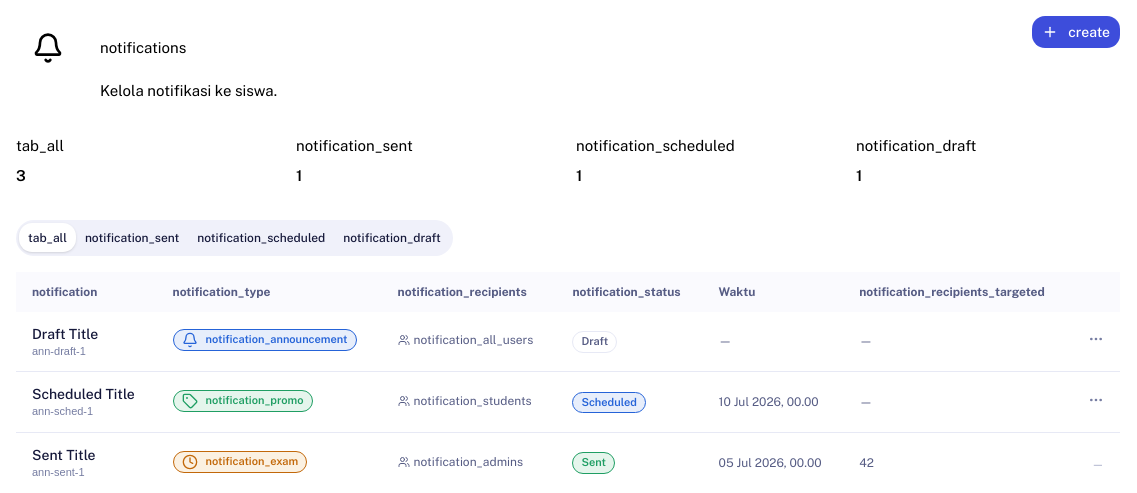
Scenario: AnnouncementTable › filters to scheduled announcements when scheduled tab is clicked
Press the mouse on the tab "notification_scheduled" at (261, 238), box x1=188 y1=223 x2=334 y2=252
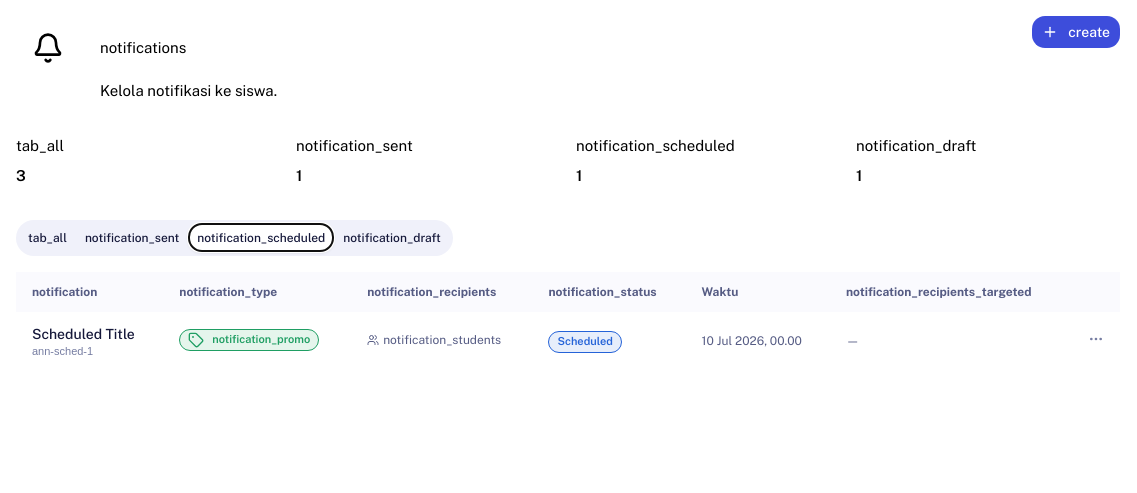
Check: the text "Scheduled Title" is shown, box x1=32 y1=324 x2=147 y2=344
Check: the text "Draft Title" is gone
Check: the text "Sent Title" is gone
